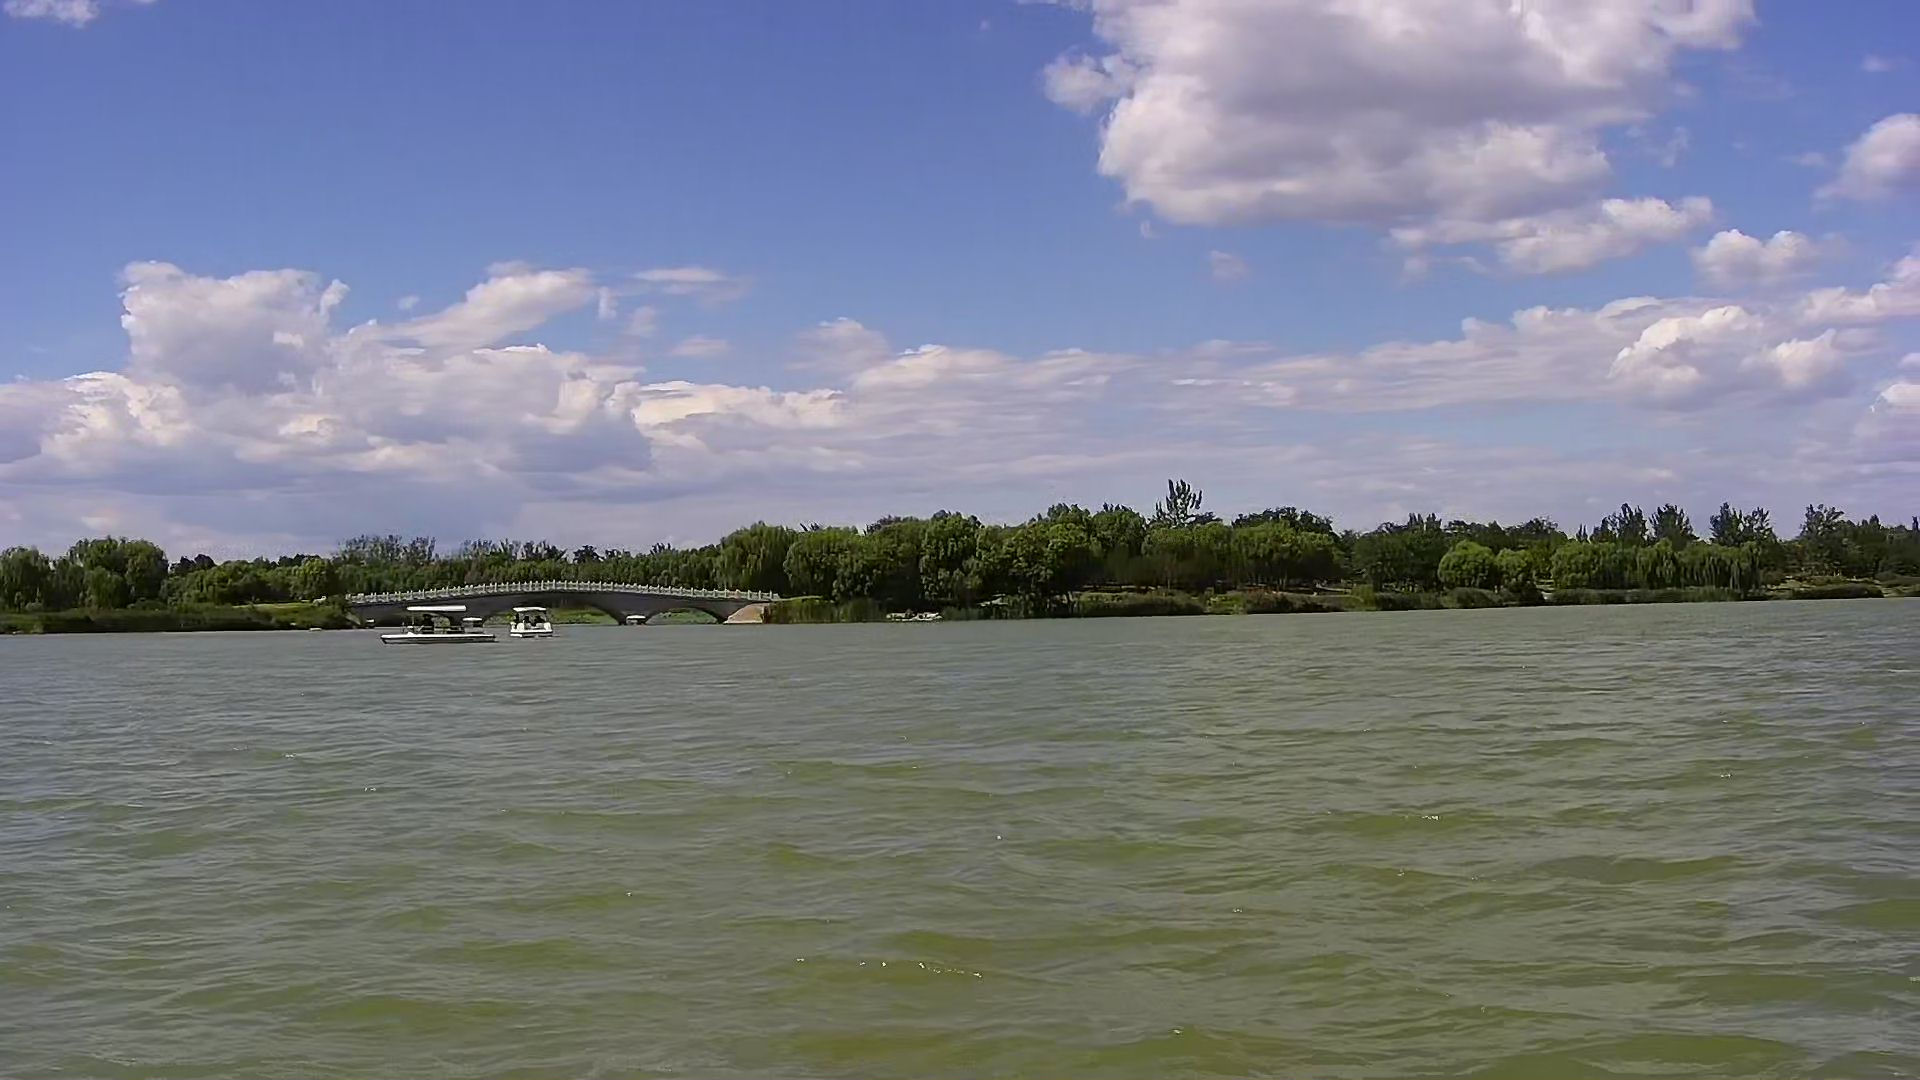boat: (386, 604, 498, 647), (513, 608, 567, 646)
bridge: (347, 574, 785, 626)
